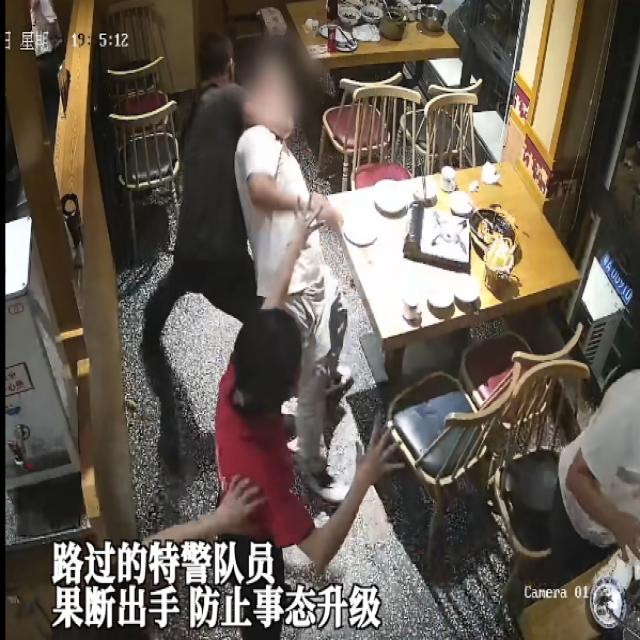fight: (170, 29, 323, 220)
nofight: (195, 226, 388, 637)
